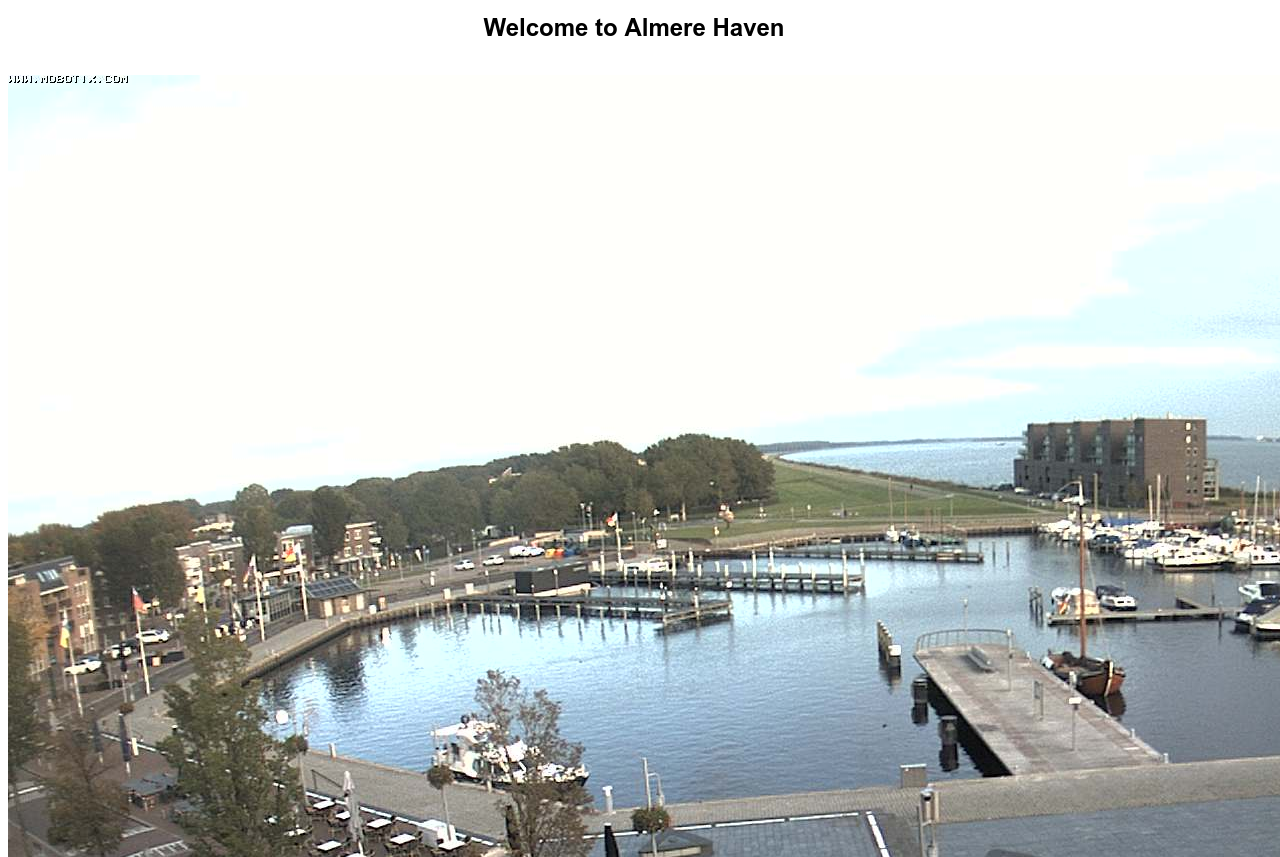maybe: (283, 546, 305, 564)
no: (59, 607, 74, 646), (130, 590, 151, 616), (244, 554, 260, 586), (193, 567, 207, 599)
